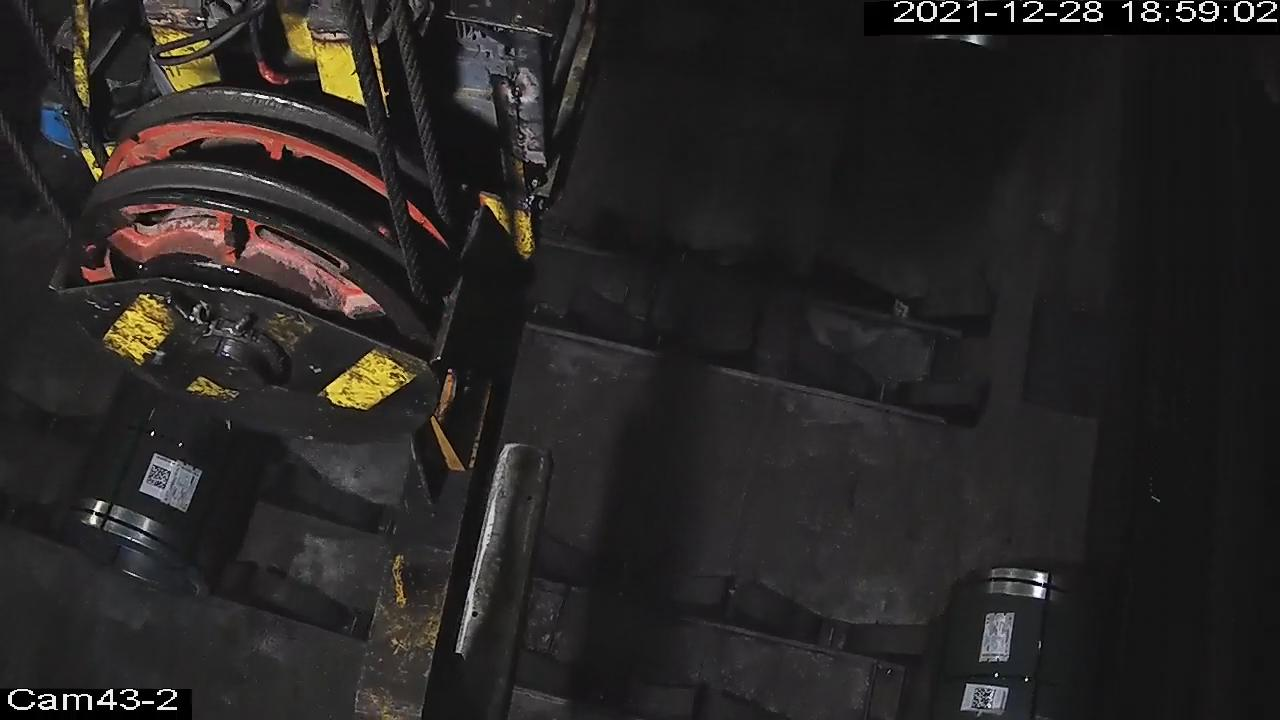data matrix: (142, 461, 175, 493), (969, 683, 999, 715)
